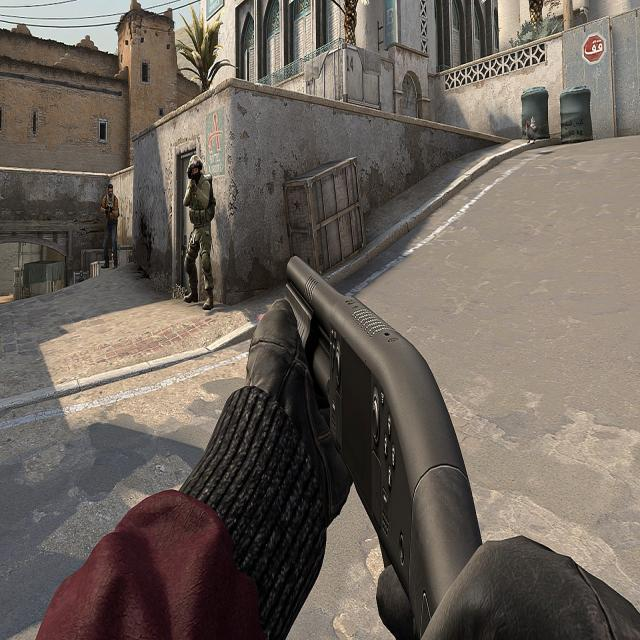shotgun: (278, 243, 492, 622)
